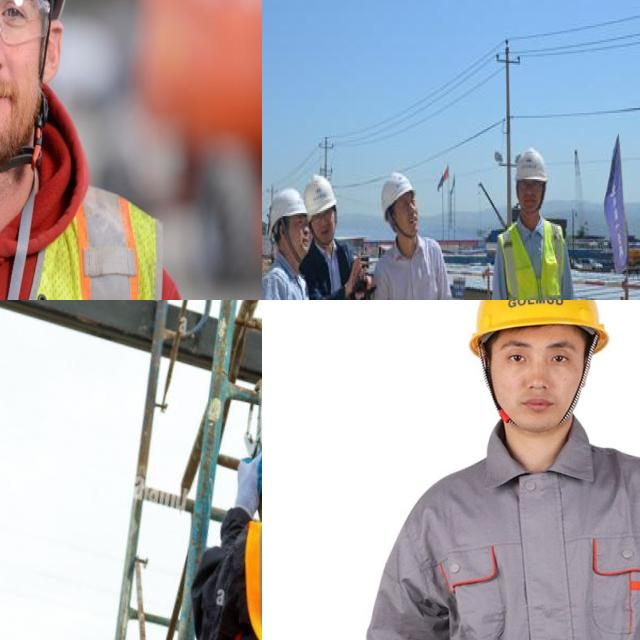Harness: (442, 455, 640, 640)
No_Glasses: (499, 339, 575, 372)
face_nomask: (0, 0, 59, 159), (388, 190, 428, 236), (280, 213, 311, 264), (516, 179, 546, 216), (311, 206, 337, 244)
glasses: (0, 0, 56, 45)
hand_noglove: (342, 259, 370, 300)
head_helmet: (302, 170, 336, 214), (377, 171, 415, 208), (514, 145, 550, 179), (267, 187, 304, 218)
person: (0, 0, 208, 300), (492, 145, 573, 300), (376, 174, 457, 300), (305, 177, 374, 300), (262, 187, 309, 300)
vest: (0, 171, 159, 300), (504, 225, 567, 300)
